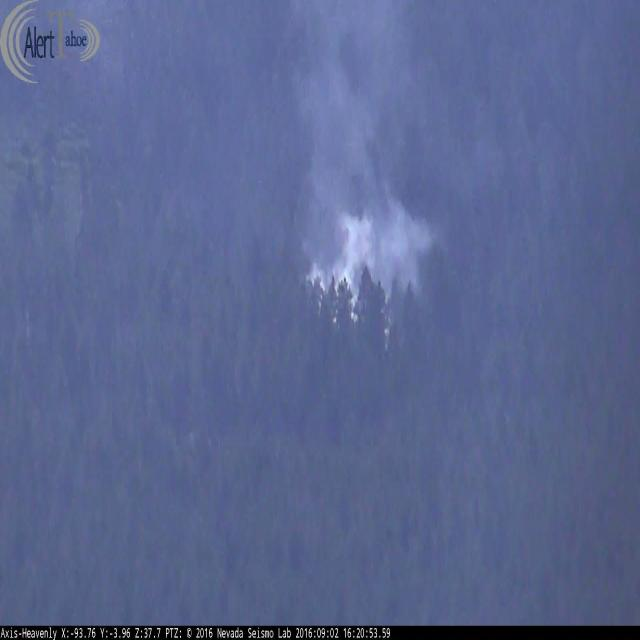smoke: (296, 1, 431, 333)
